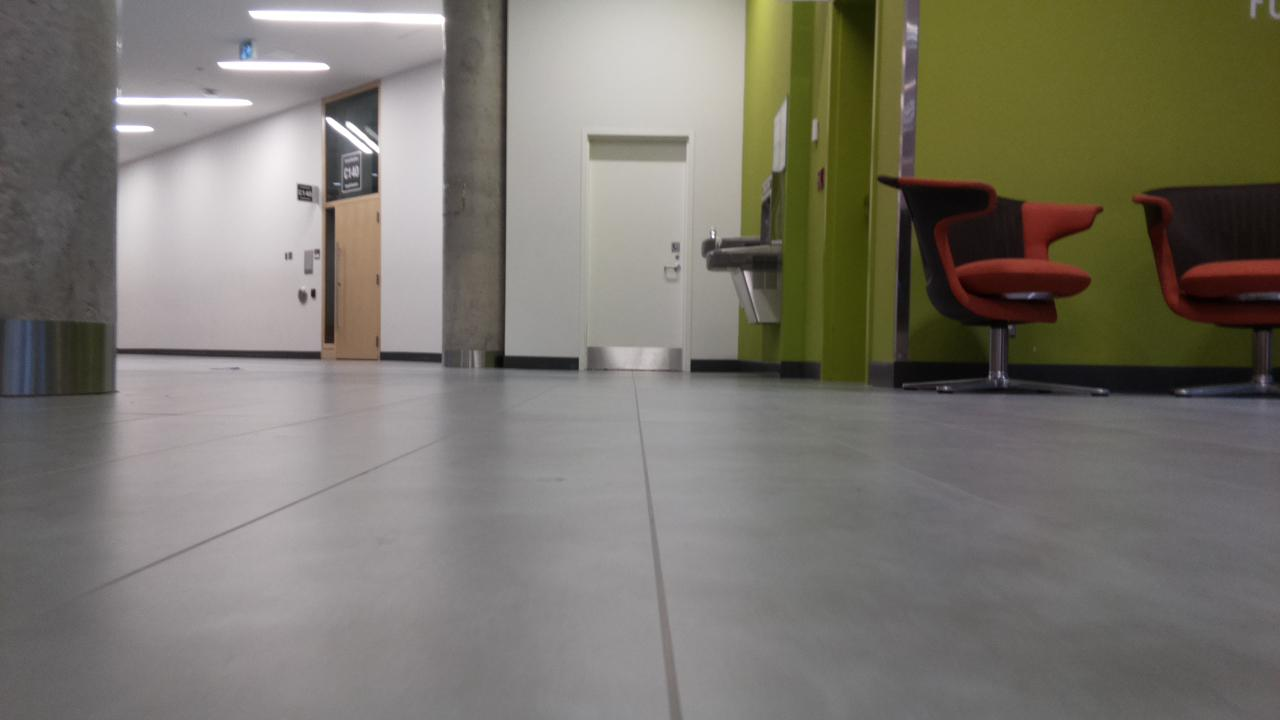door: (588, 141, 685, 368), (338, 198, 378, 358)
sign: (342, 154, 359, 190), (298, 184, 311, 200), (314, 250, 319, 257)
